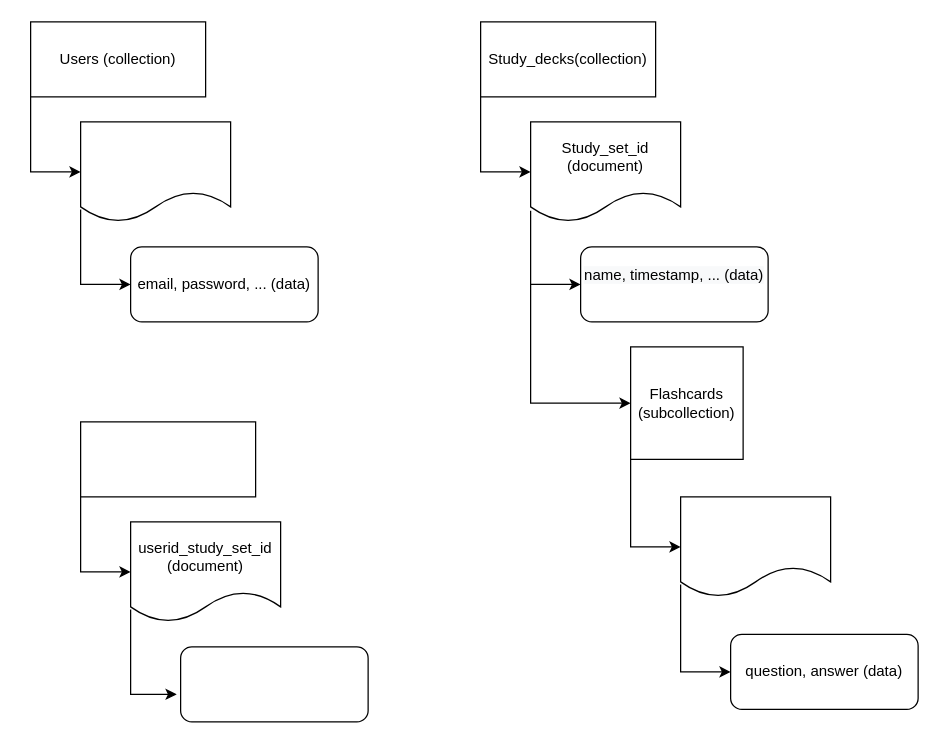
Image size: 940x744. Some labels were removed from this diagram. Here are the shapes that lost their labels. From the top down, the box of each, then its label:
(79, 121, 231, 222): User_id (document)
(79, 421, 256, 497): junction_user_study_set (collection)
(679, 496, 831, 597): Flashcard_id (doucment)
(179, 646, 368, 722): user_id, studyset_id (data)
